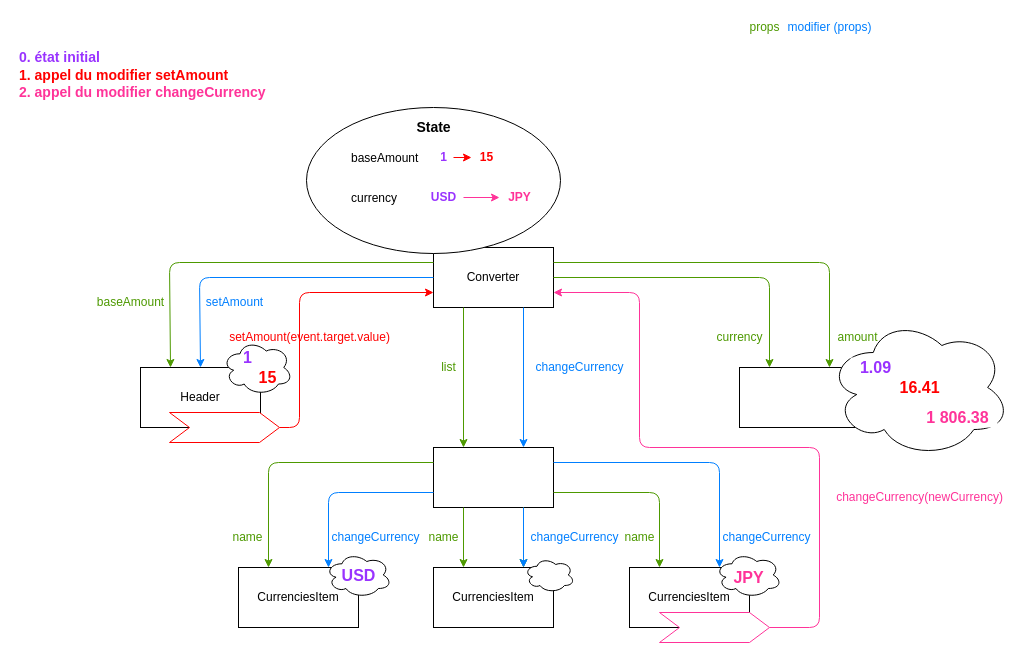
Image size: 1028x660. Some labels were removed from this diagram. The centre of each missing label's shape, as x and y in pixels:
"Currencies" belongs at (493,477).
"GBP" belongs at (549,574).
"onChange" belongs at (224,427).
"onClick" belongs at (714,627).
"Result" belongs at (799,397).
